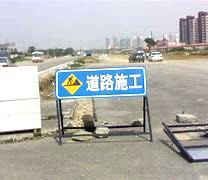sign: (55, 69, 147, 96)
